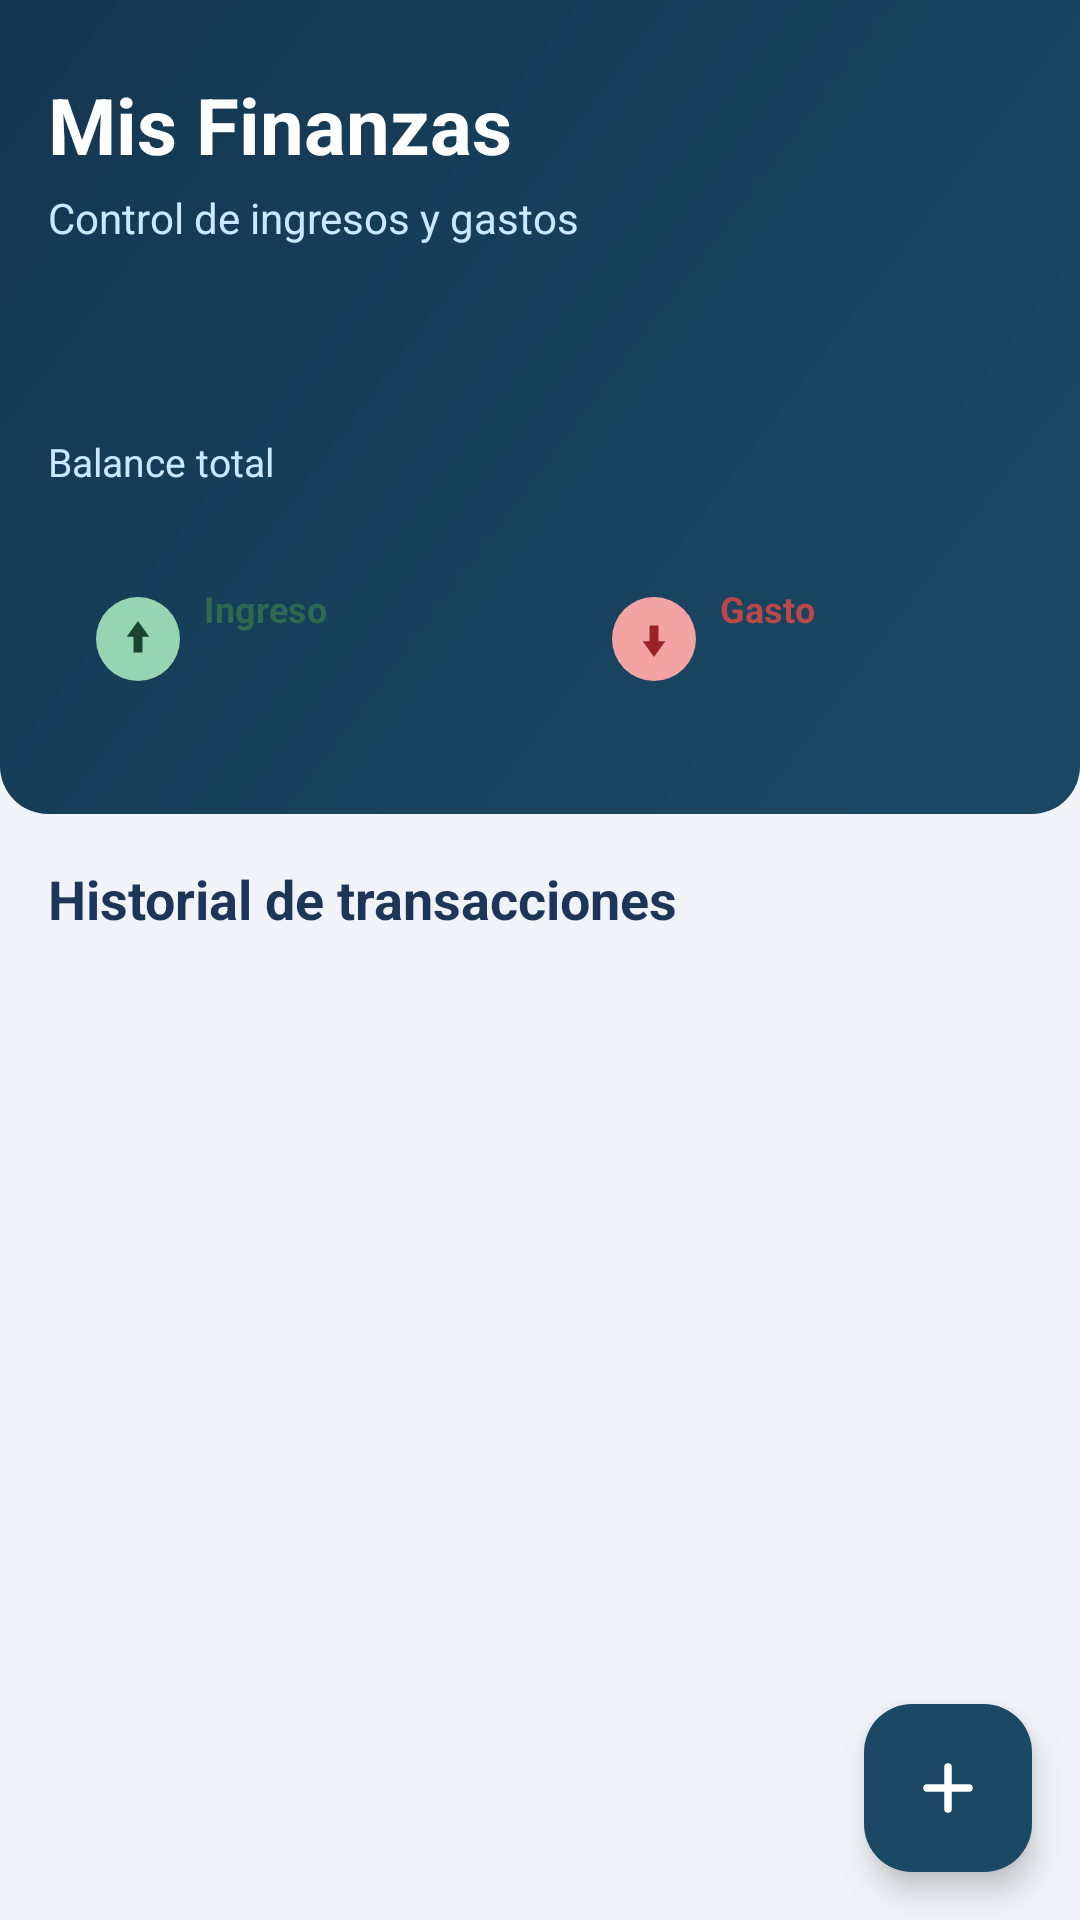

Named icons in this screenshot (1080 x 1920) and their centers, (x,y):
Agregar transacción: (948,1788)
